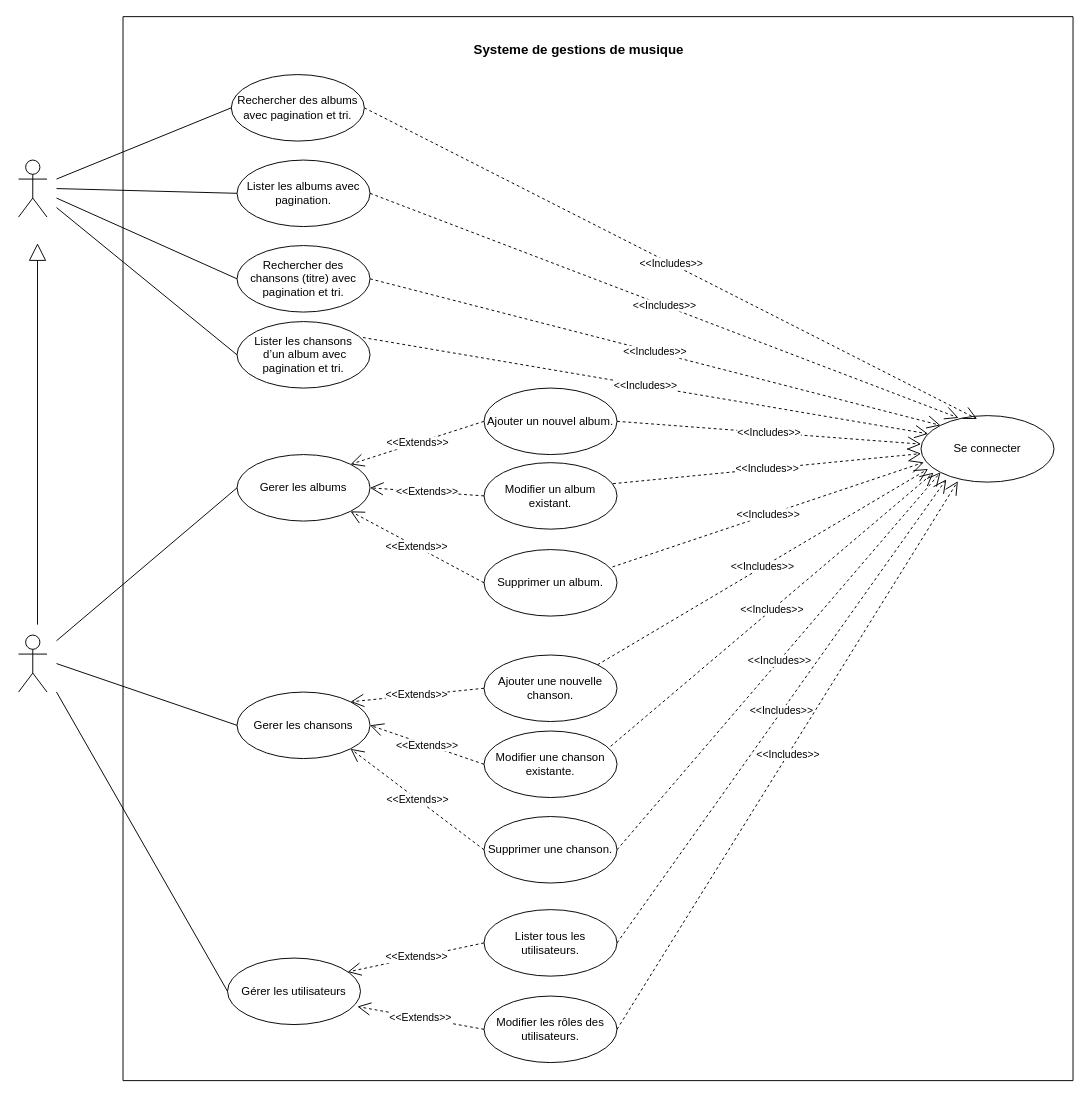
Image size: 1090x1097. Some labels were removed from this diagram. Here are the shapes that lost their labels. From the top down, the centre of each, then its label:
(x=32, y=188): User
(x=32, y=663): Admin
